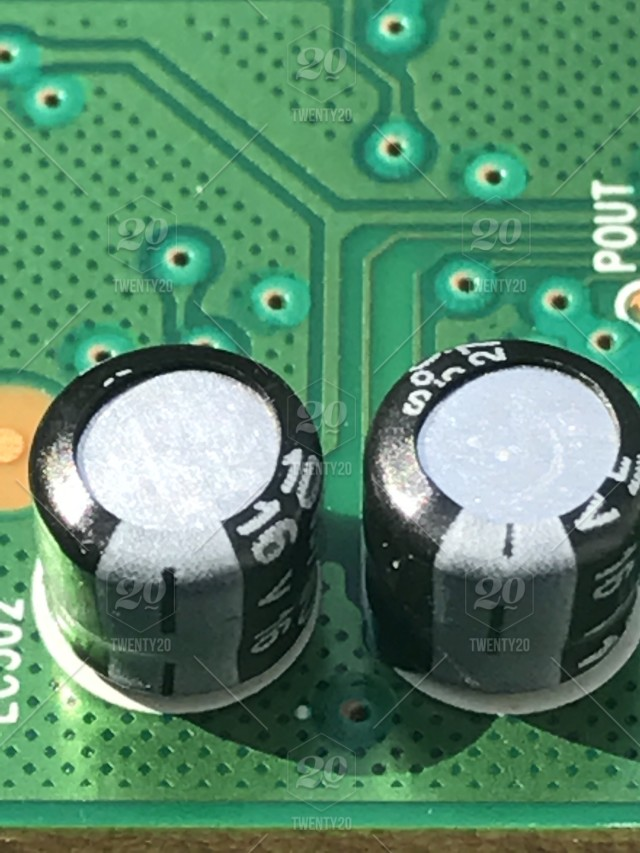capacitor: (341, 304, 631, 727), (34, 324, 331, 729)
